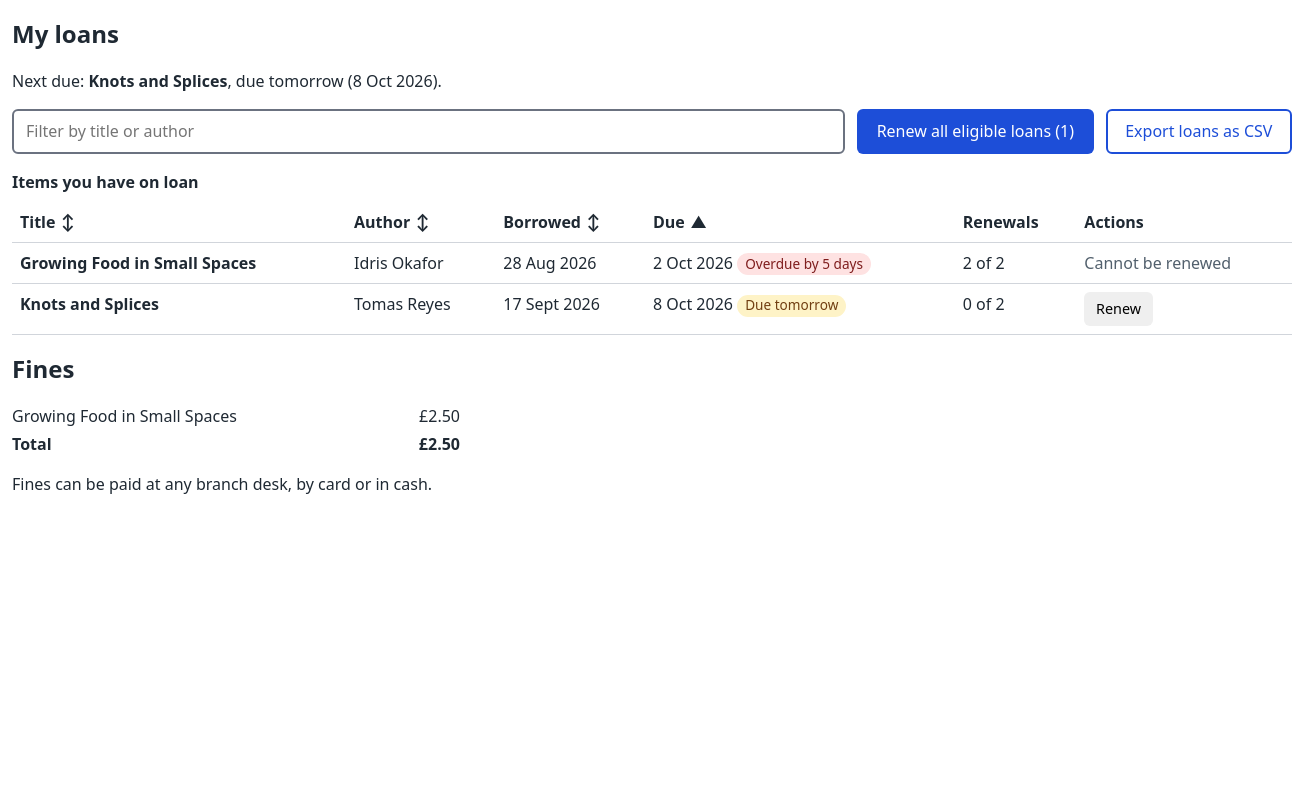
Scenario: LoansPage › renews every eligible loan at once
Step 1. Click the button "Renew all eligible loans (1)" → (975, 131), box 857,109 -> 1094,154
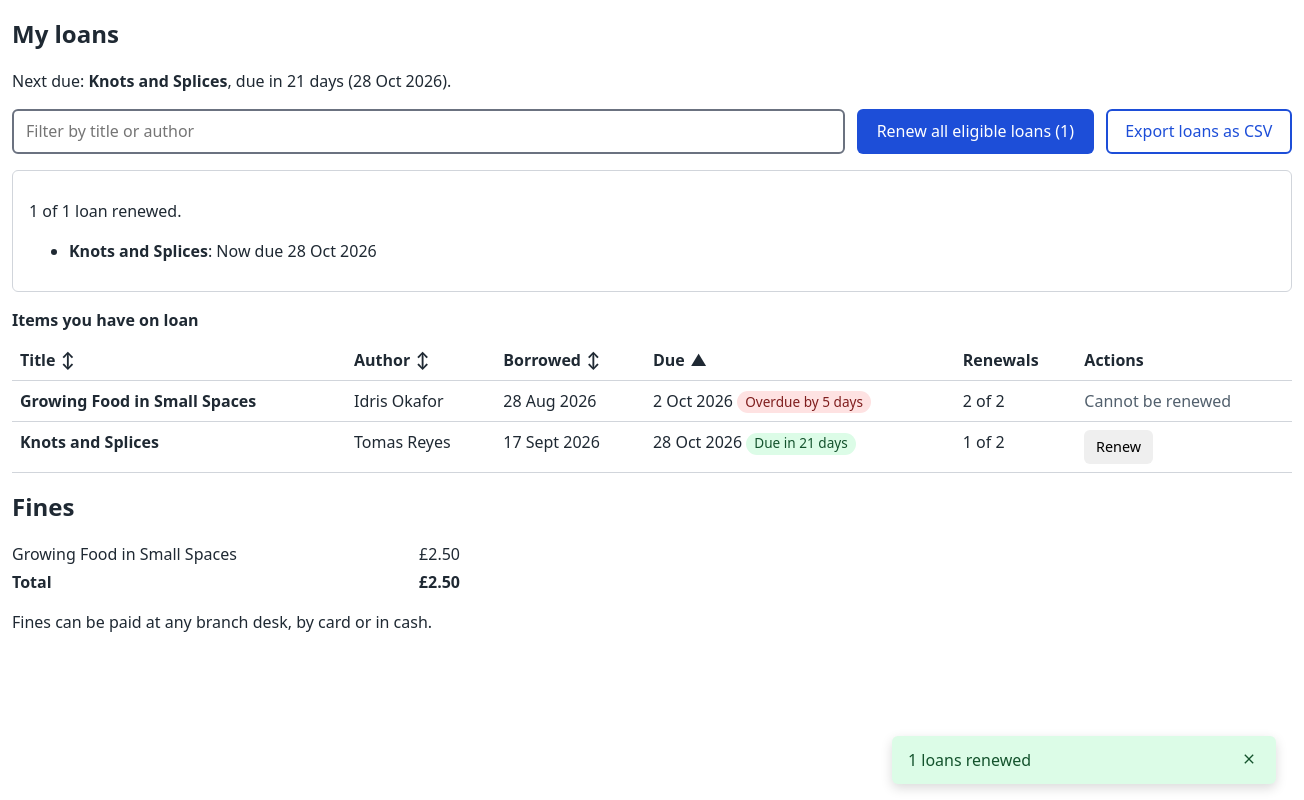
Result: the text "1 of 1 loan renewed." is shown at 29,200 -> 182,222
